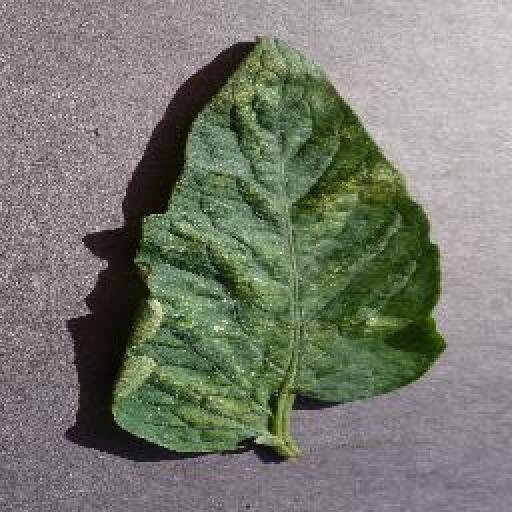disease_tomato: (108, 34, 444, 452)
